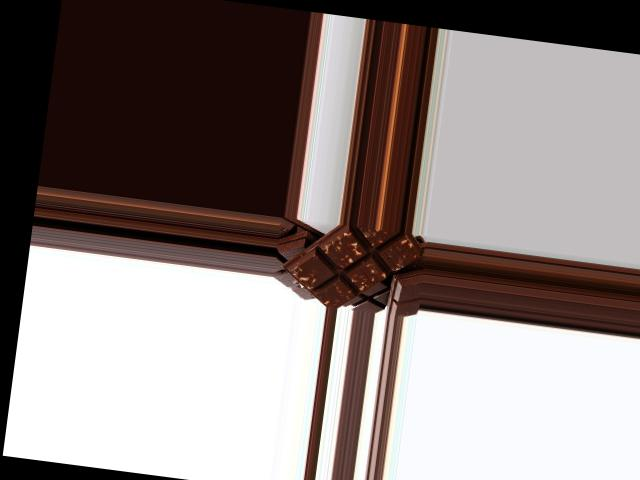chocolate: (288, 218, 423, 317)
